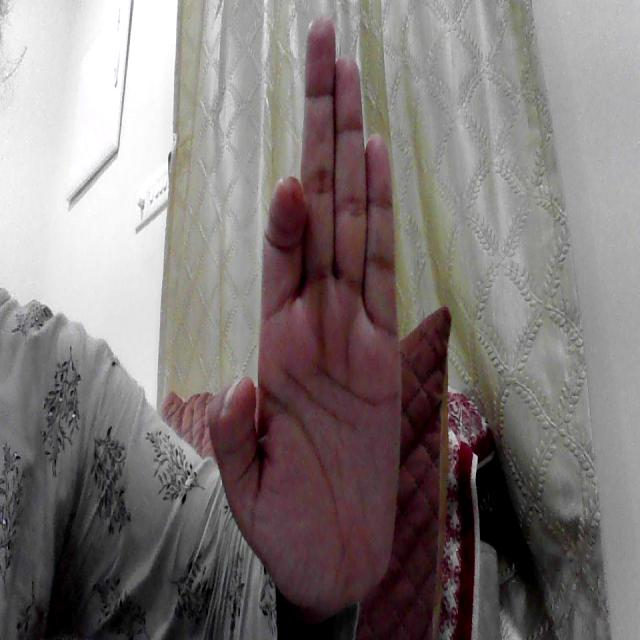Arala: (208, 7, 423, 611)
